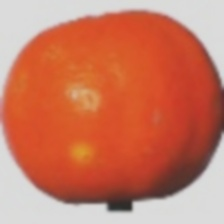tangerine: (36, 32, 199, 209)
